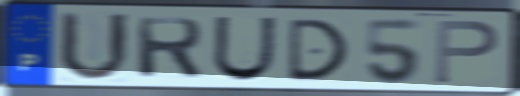5: (364, 17, 423, 86)
D: (285, 17, 351, 83)
P: (432, 18, 501, 86)
R: (134, 15, 206, 81)
U: (56, 9, 133, 85), (210, 14, 279, 83)
